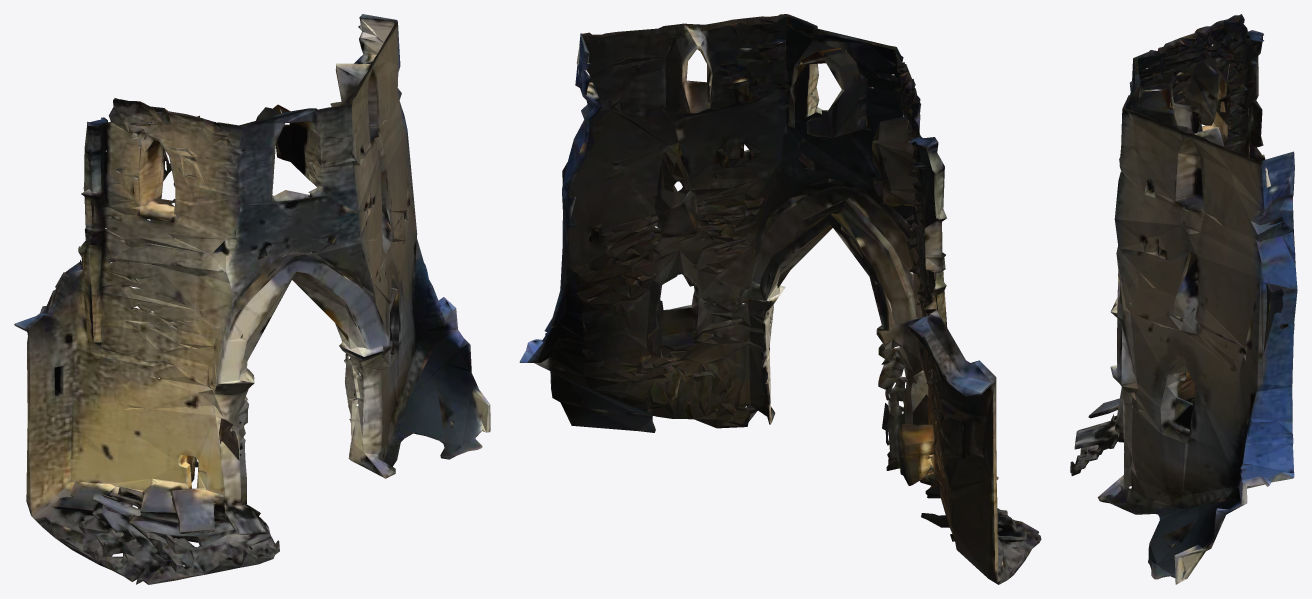
File: war_tower_ruin_01.glb
3 views of the same model, side by side, from view 1: azimuth 30°, elevation 25°; view 2: azimuth 150°, elevation 25°; view 3: azimuth 270°, elevation 25° (orthographic). The views are drawn at different scales.
Parts seen in each view (by area): view 1: geometry_0; view 2: geometry_0; view 3: geometry_0.
Part boxes in pixels (x1,y1,x2,y2): geometry_0: (14,14,490,584); geometry_0: (519,14,1041,584); geometry_0: (1070,14,1297,584).
Size of the model in its own units: 0.9992 by 0.9749 by 0.4586.
1 material, 1 textured.
